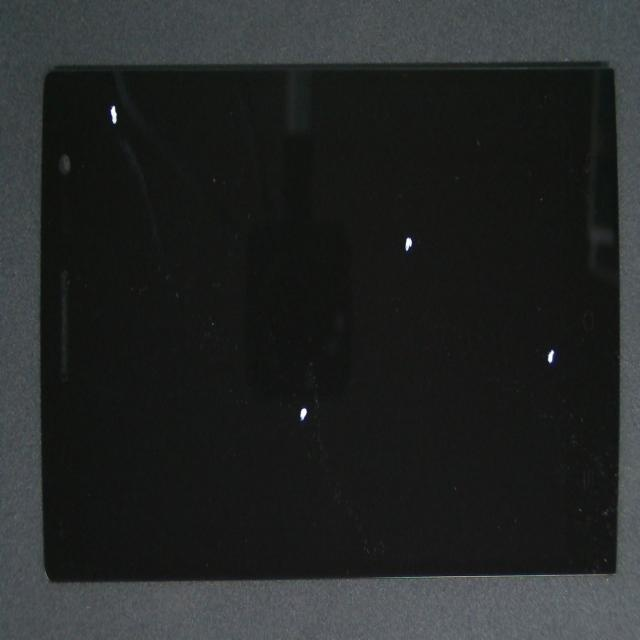stain: (287, 114, 640, 499), (111, 233, 438, 640), (169, 110, 597, 392), (65, 136, 193, 235)
